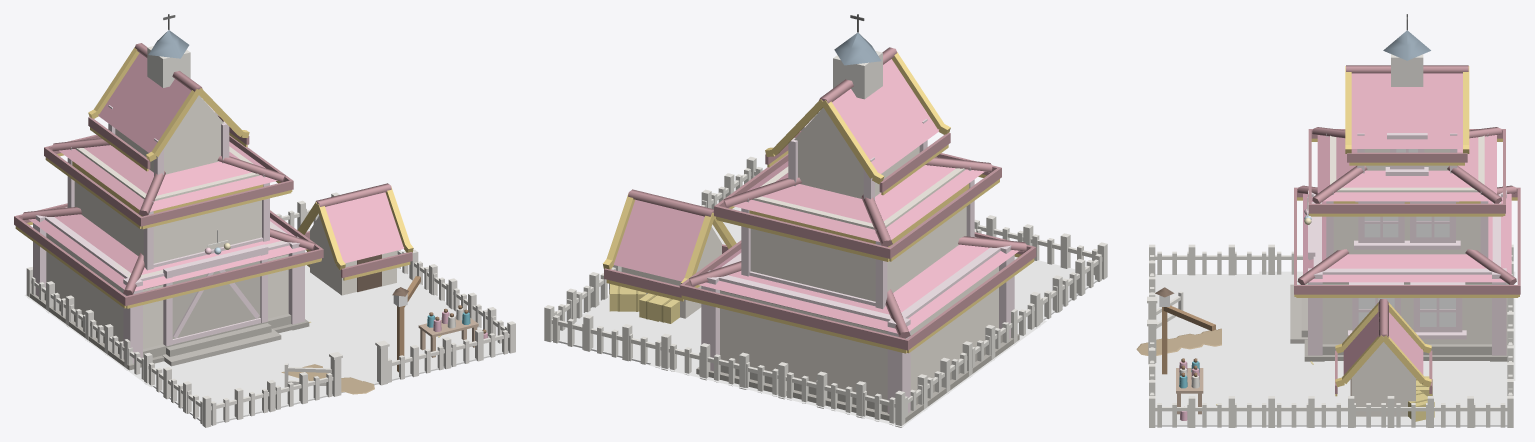
File: nursery_barn_2.glb
3 views of the same model, side by side, from view 1: azimuth 30°, elevation 25°; view 2: azimuth 150°, elevation 25°; view 3: azimuth 270°, elevation 25° (orthographic). The views are drawn at different scales.
Parts seen in each view (by area): view 1: body6, nursery_barn_2, body2, body; view 2: body6, nursery_barn_2; view 3: body6, nursery_barn_2.
Part boxes in pixels (x1,y1,x2,y2): body6: [14, 14, 515, 427]; nursery_barn_2: [24, 265, 421, 393]; body2: [216, 261, 260, 333]; body: [172, 271, 216, 344]; body6: [544, 14, 1107, 427]; nursery_barn_2: [594, 292, 1046, 427]; body6: [1136, 14, 1520, 427]; nursery_barn_2: [1222, 271, 1515, 424].
Size of the model in its own units: 2.73 by 2.45 by 2.8.
